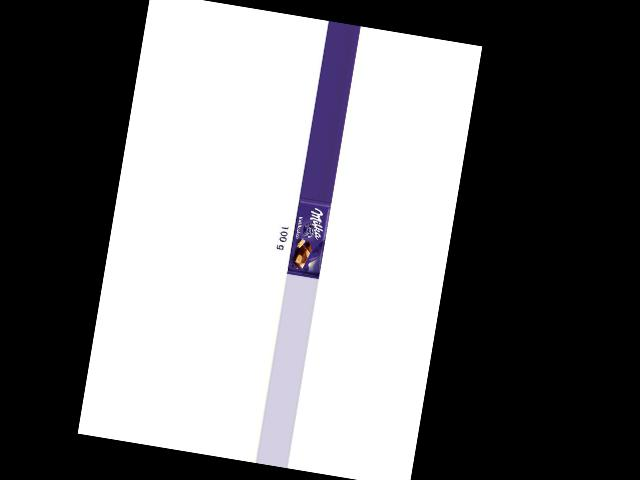chocolate: (281, 197, 332, 280)
